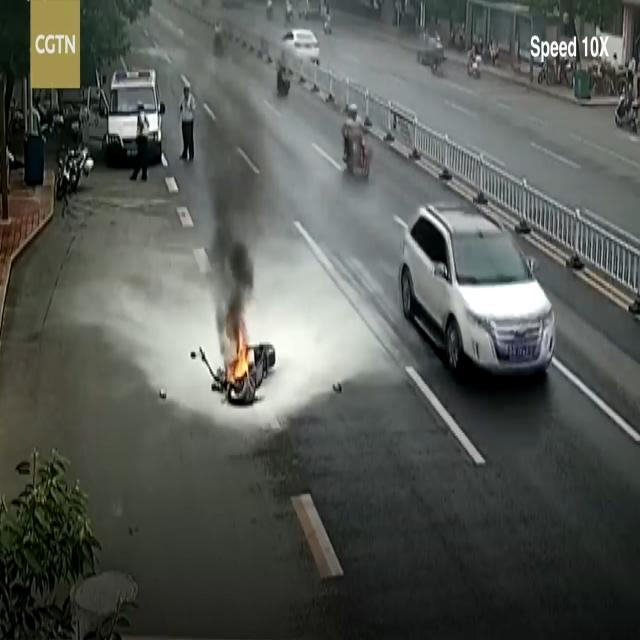Fire: (226, 330, 252, 382)
Smoke: (202, 95, 262, 334)
